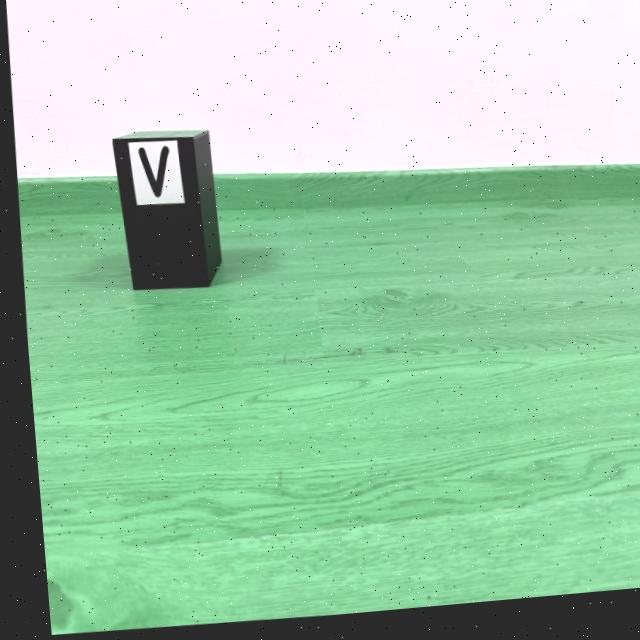V: (136, 148, 166, 199)
